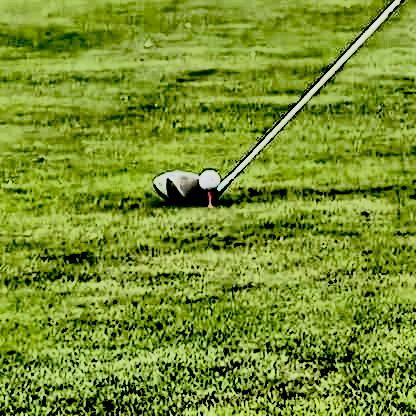golfball: (194, 166, 219, 190)
